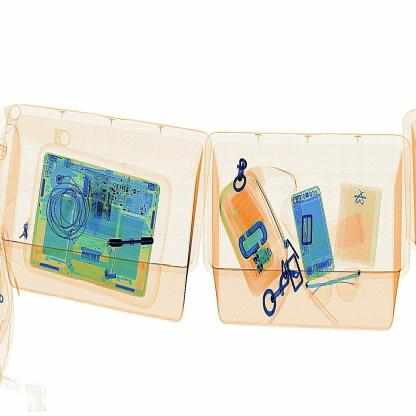knife: (103, 228, 157, 256)
